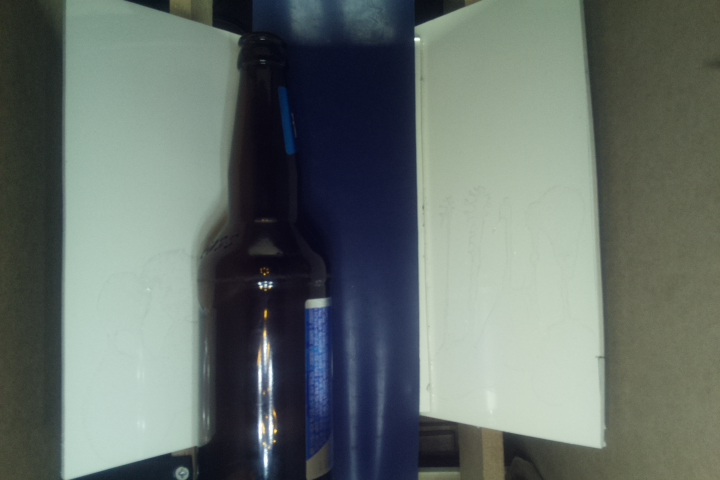makju: (195, 32, 339, 480)
